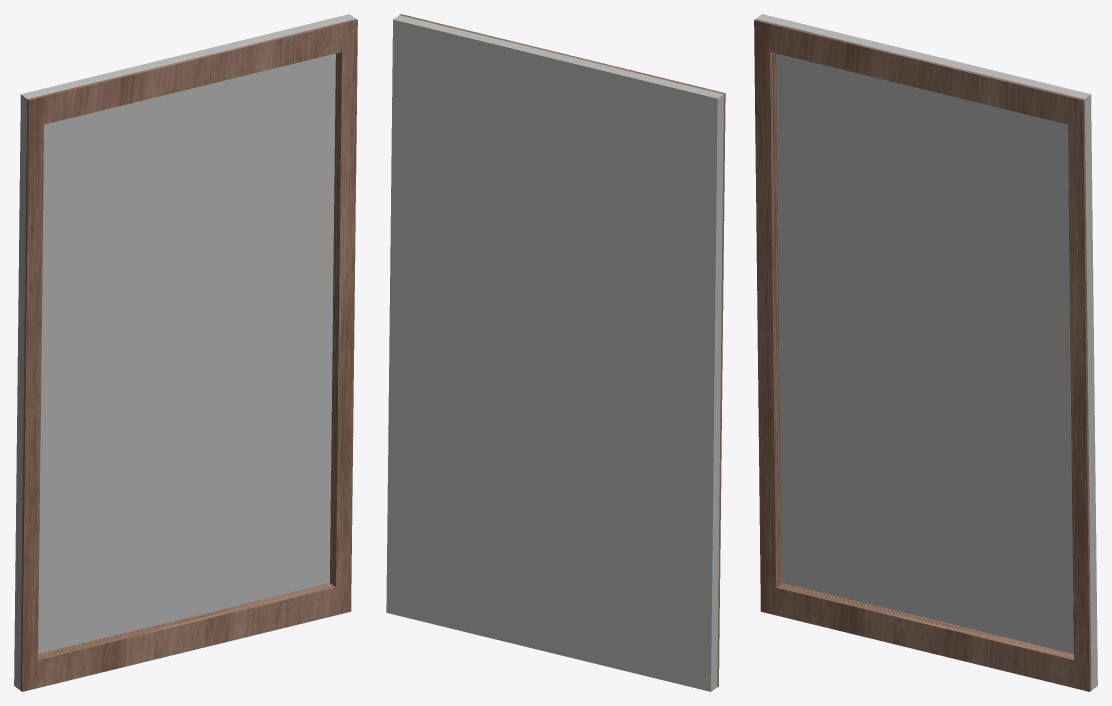
File: quadro_TEXTURIZADO.fbx
3 views of the same model, side by side, from view 1: azimuth 30°, elevation 25°; view 2: azimuth 150°, elevation 25°; view 3: azimuth 330°, elevation 25° (orthographic).
Visible parts, largest first — view 1: Cube.081; view 2: Cube.081; view 3: Cube.081.
Part boxes in pixels (left/top/right/bottom): Cube.081: left=14, top=14, right=357, bottom=691; Cube.081: left=386, top=14, right=725, bottom=691; Cube.081: left=754, top=14, right=1097, bottom=691.
Size of the model in its own units: 48.31 by 83.73 by 3.77.
1 material, 1 textured.
